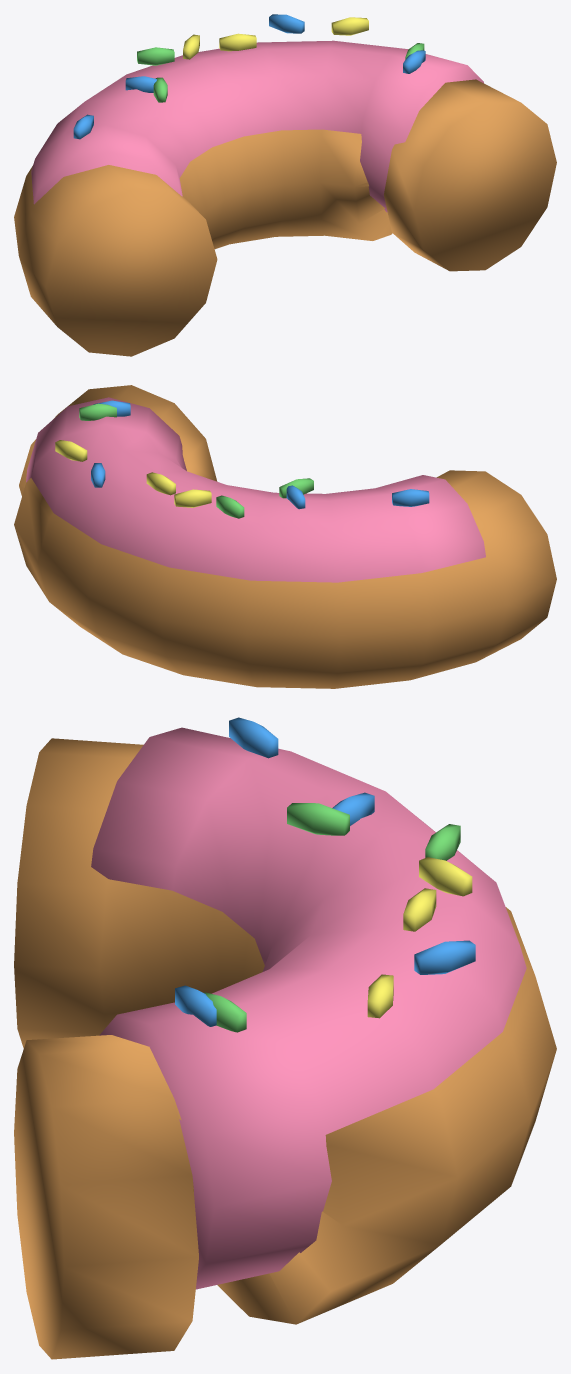
Rendered from food_donut.glb.
3 renders of one model, top to bottom at view 1: azimuth 30°, elevation 25°; view 2: azimuth 150°, elevation 25°; view 3: azimuth 270°, elevation 25°, orthographic. The views are drawn at different scales.
Parts seen in each view (by area): view 1: food_donut; view 2: food_donut; view 3: food_donut.
Boxes of the visible parts, x1,y1,x2,y2 form: food_donut: (14, 14, 556, 356); food_donut: (14, 385, 556, 688); food_donut: (14, 717, 556, 1359).
Bounding box in the file's own units: 0.2889 × 0.103 × 0.152.
